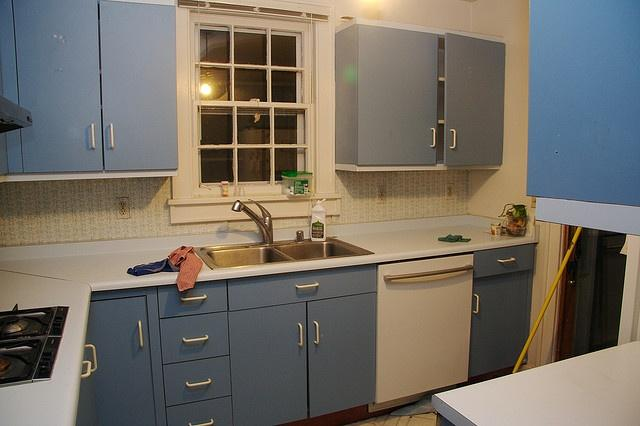Lemari: (0, 0, 178, 177), (355, 19, 505, 170)
